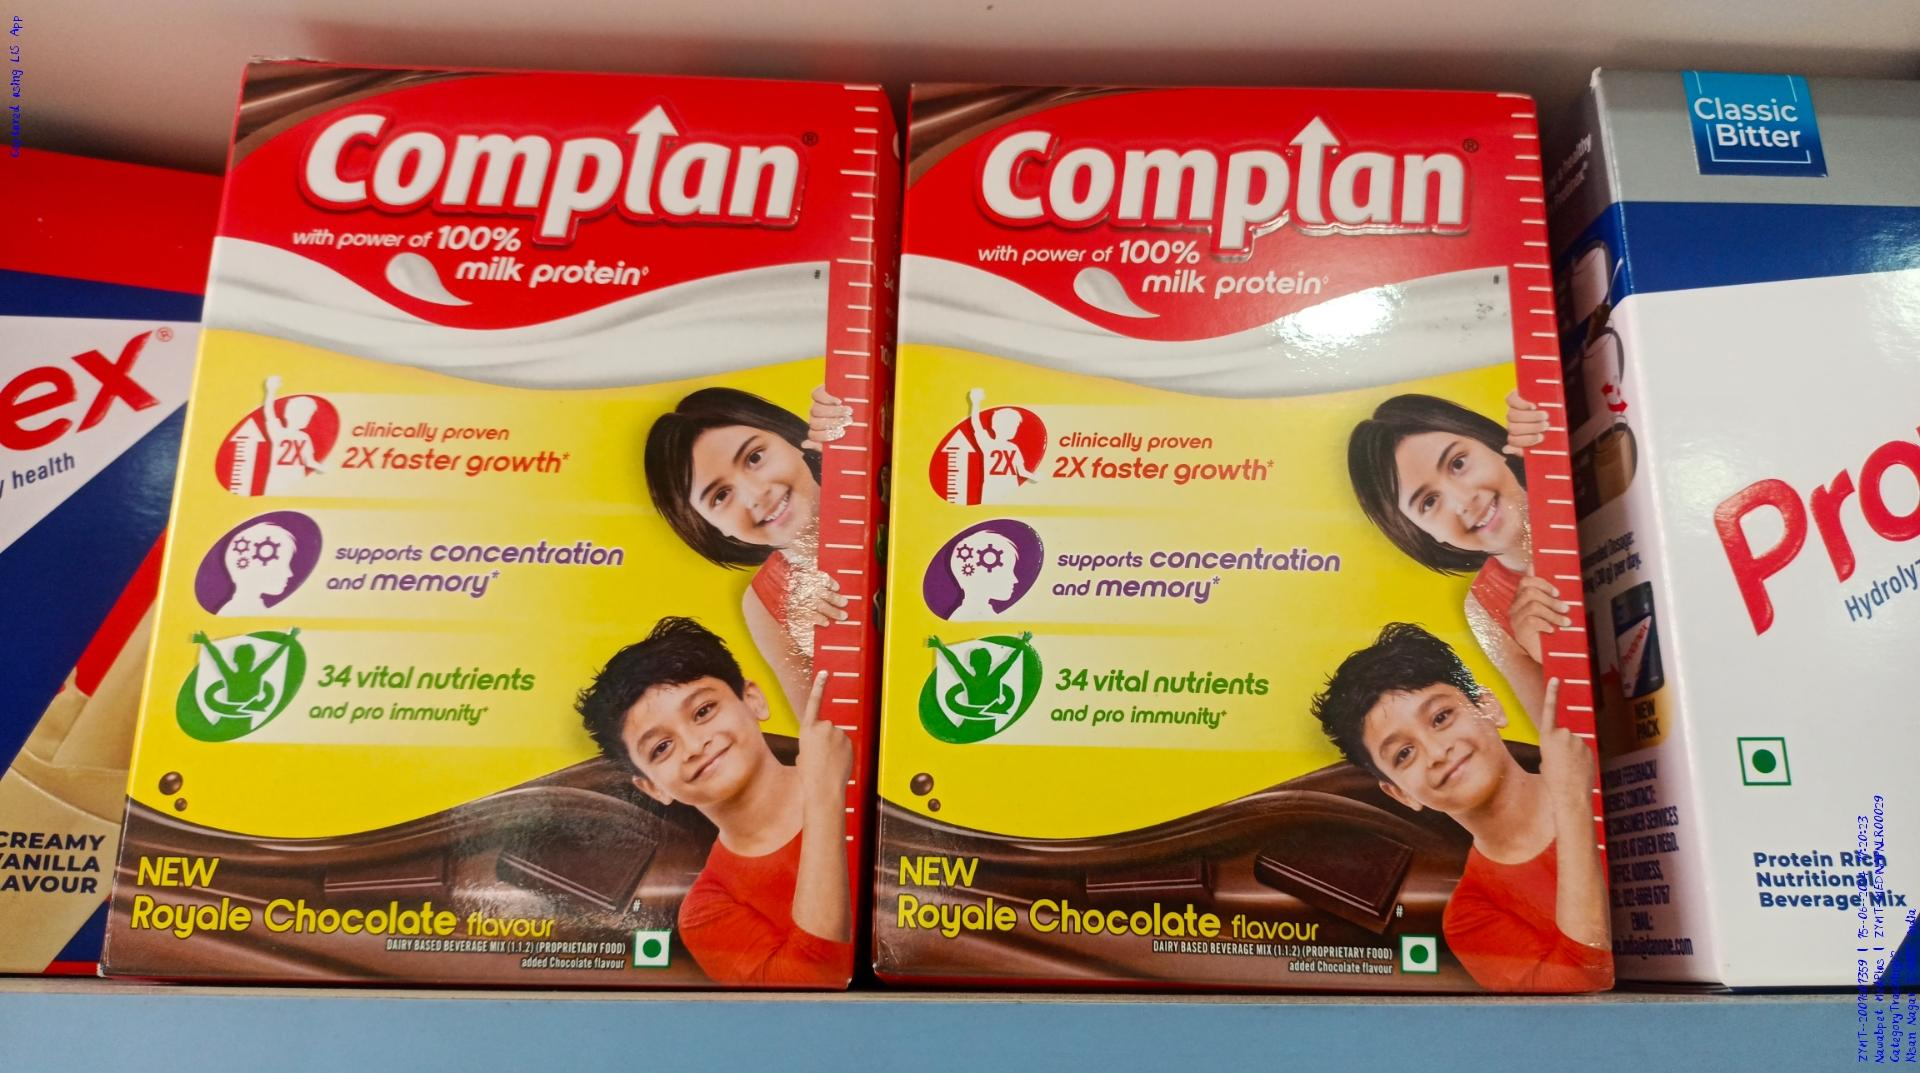COMPLAN_CHOCOLATE_500_GMS_PACK: (142, 79, 861, 977), (898, 76, 1597, 987)
